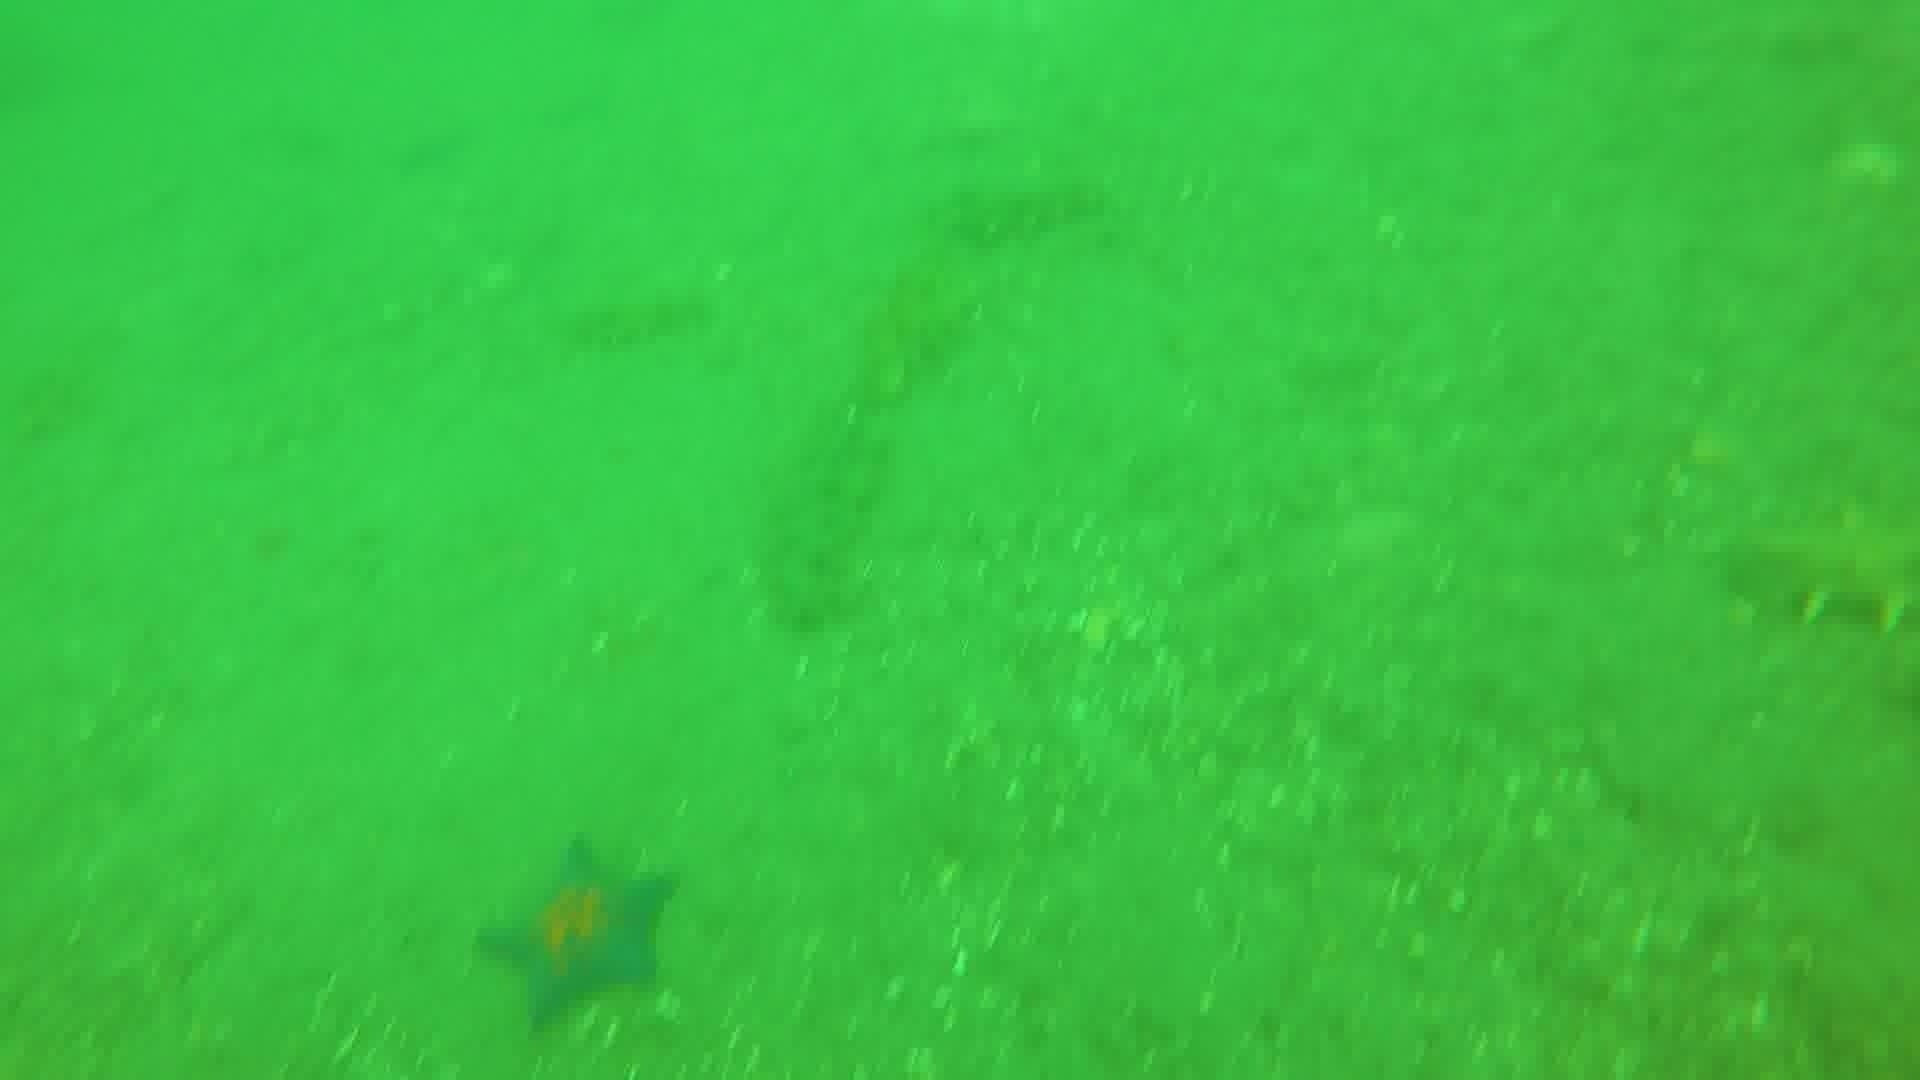holothurian: (753, 415, 889, 640), (1712, 497, 1919, 638), (829, 251, 982, 433), (934, 167, 1112, 251), (559, 276, 717, 357)
starfish: (473, 836, 684, 1033)
